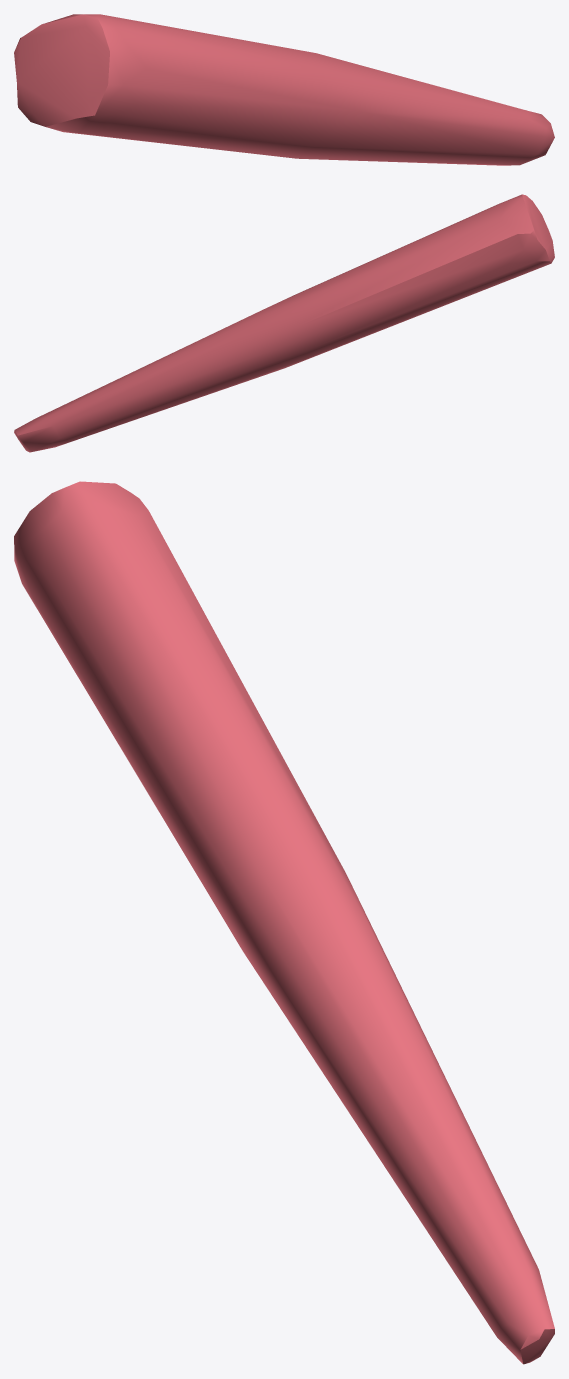
The model's file is fma8642_fj2895.glb.
The picture shows the model from 3 angles, top to bottom: view 1: azimuth 30°, elevation 25°; view 2: azimuth 150°, elevation 25°; view 3: azimuth 270°, elevation 25°; orthographic projection. The views are drawn at different scales.
Visible parts, largest first — view 1: FMA8642_FJ2895; view 2: FMA8642_FJ2895; view 3: FMA8642_FJ2895.
Boxes of the visible parts, box(x1,y1,x2,y2) form: FMA8642_FJ2895: box(14, 14, 554, 165); FMA8642_FJ2895: box(14, 194, 554, 452); FMA8642_FJ2895: box(14, 481, 554, 1364).
Size of the model in its own units: 0.0231 by 0.0137 by 0.013.
